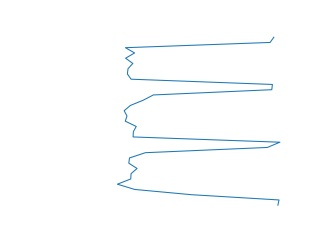majorRiverChannelBar: (115, 36, 284, 206)
